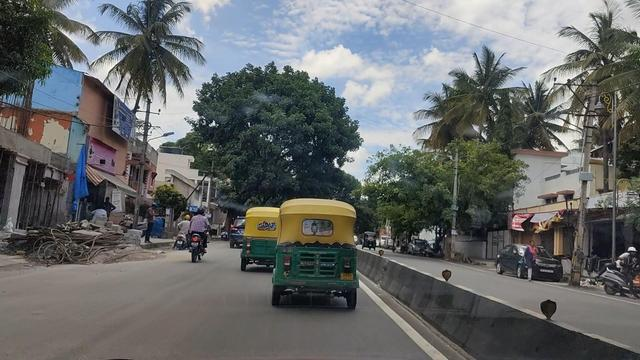LMV: (274, 204, 360, 309), (236, 207, 281, 271), (184, 209, 218, 265)
